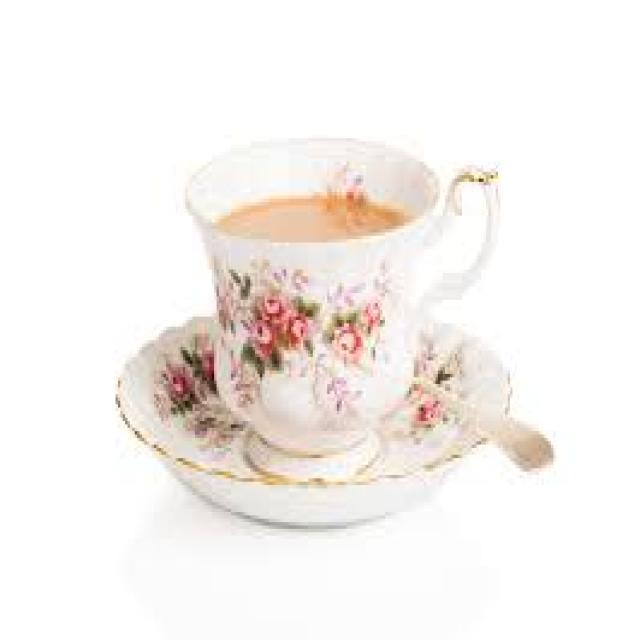taza: (154, 117, 494, 457)
